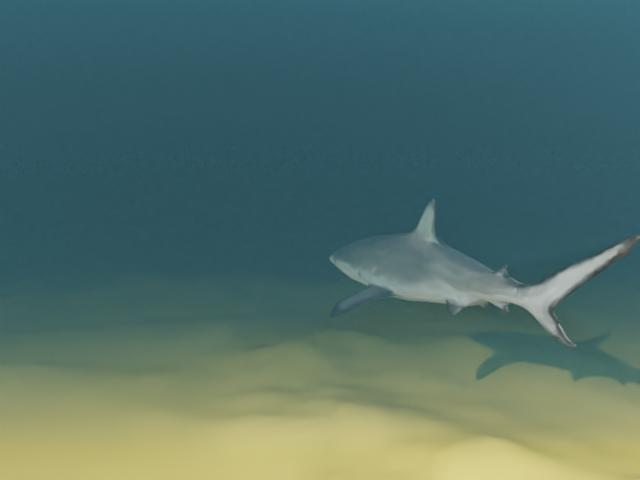Carribean Shark.001: (329, 198, 640, 347)
